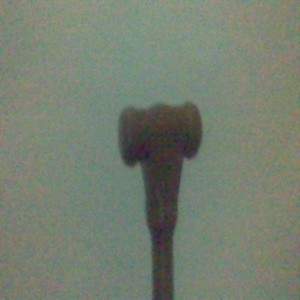palu: (117, 100, 203, 300)
